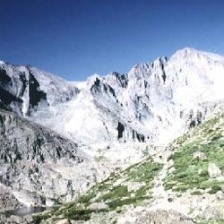neutral: (1, 16, 224, 223)
